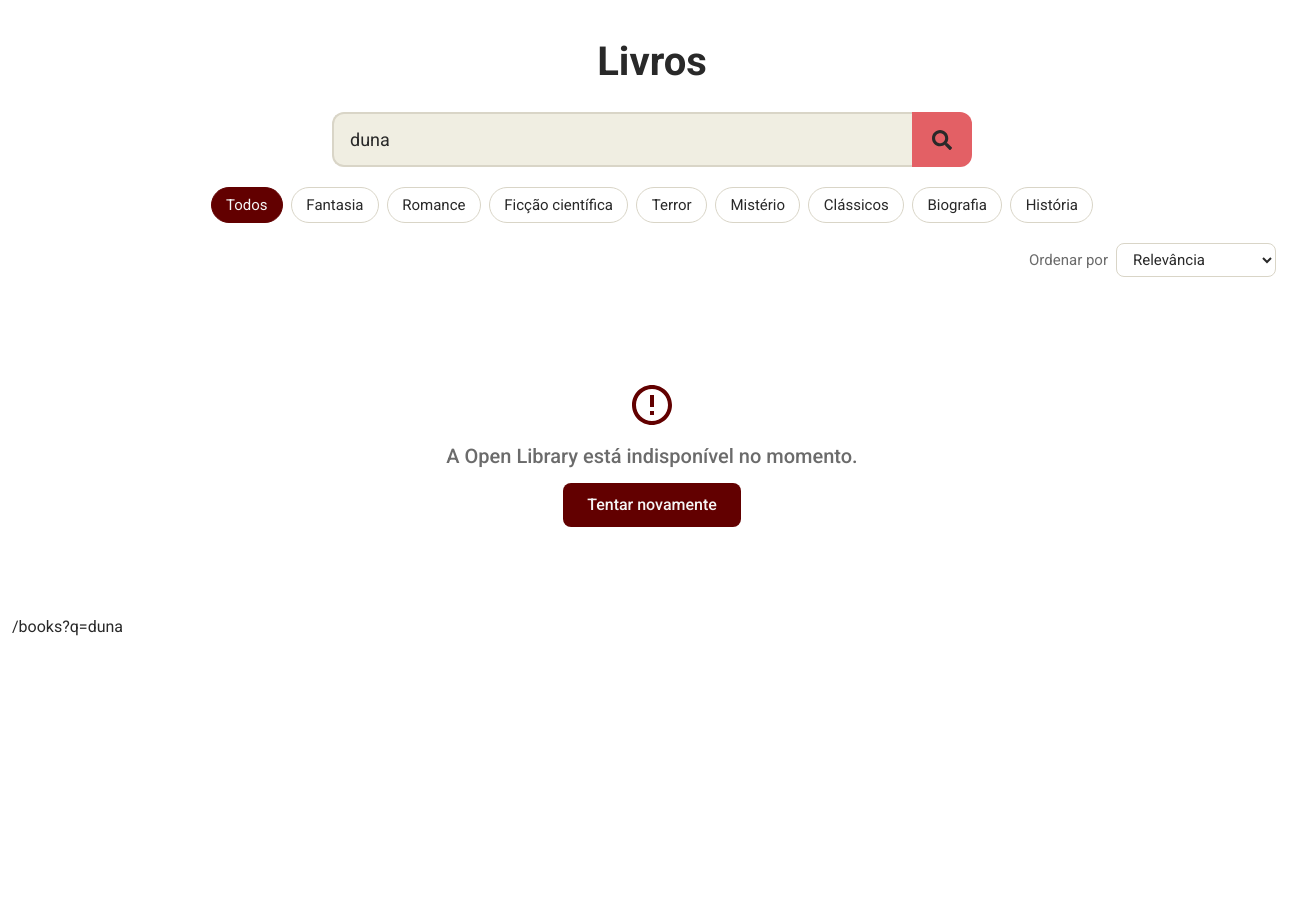
Test: AllBooksPage › mostra o erro e tenta de novo
Expected: the message shows "indisponível", [446, 444, 858, 468]
Click the button "Tentar novamente".
click(652, 505)  # box [563, 484, 741, 527]
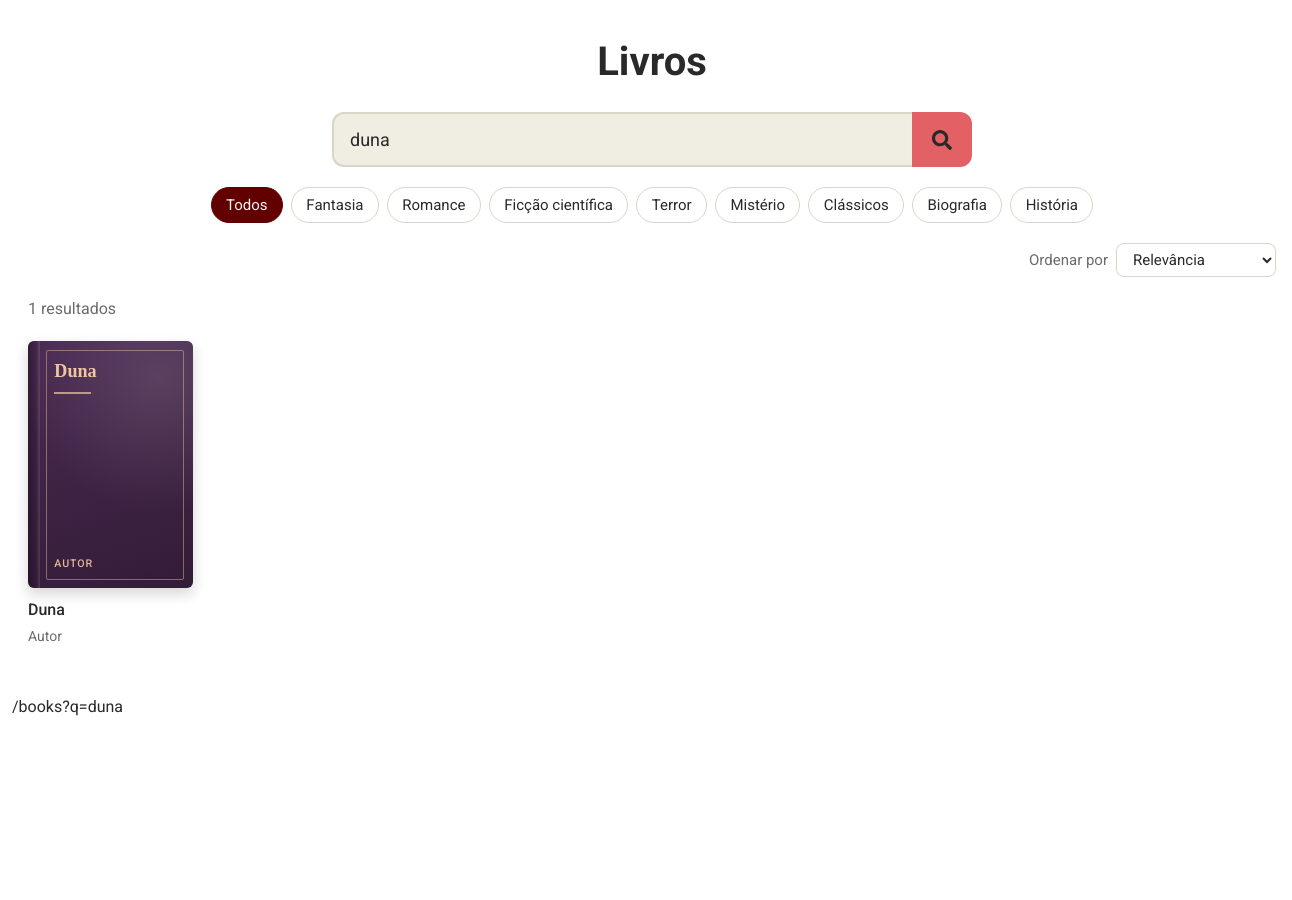
Expected: the heading "Duna" is shown, [28, 600, 65, 619]
